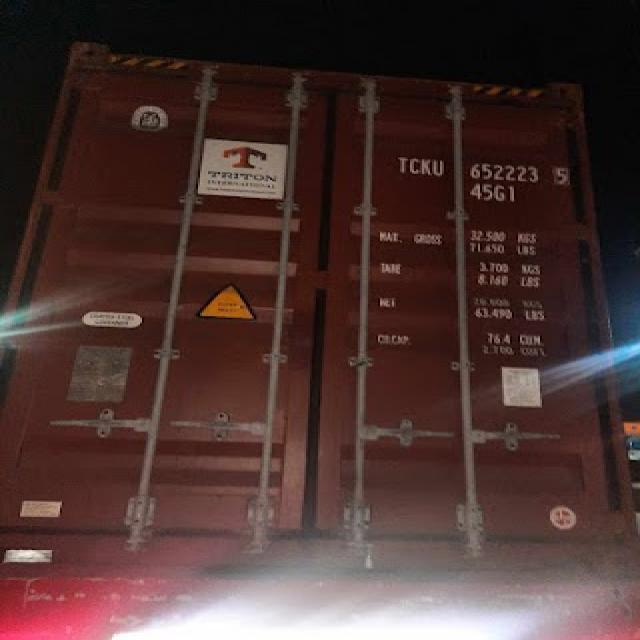ISO: (470, 182, 520, 204)
container_number: (393, 150, 576, 184)
